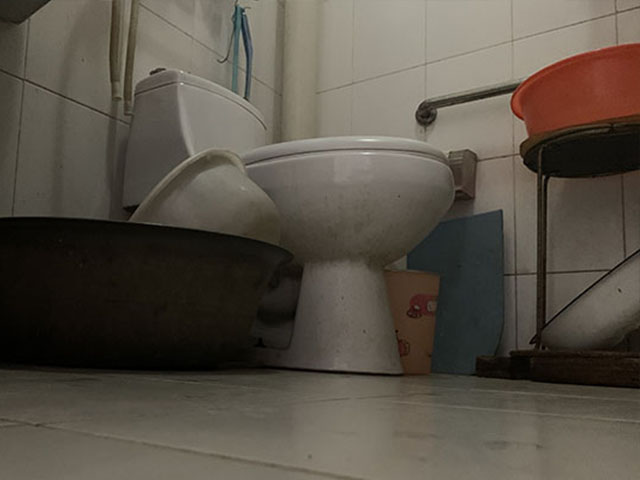closestool: (121, 64, 458, 374)
trashcan: (381, 267, 440, 374)
